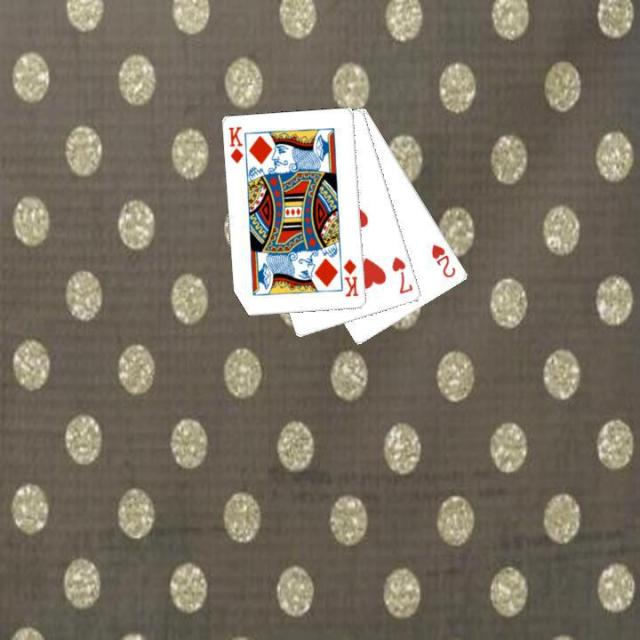2H: (428, 240, 458, 280)
7H: (389, 252, 415, 296)
KD: (340, 255, 360, 299), (225, 123, 245, 165)
